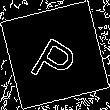P_NE: (26, 24, 84, 86)
